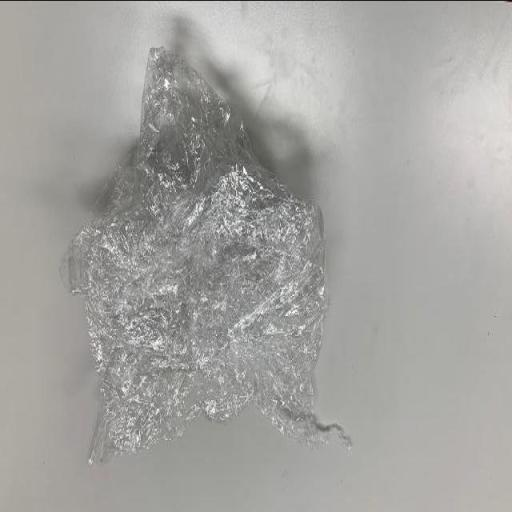plastic-bag: (60, 41, 354, 469)
